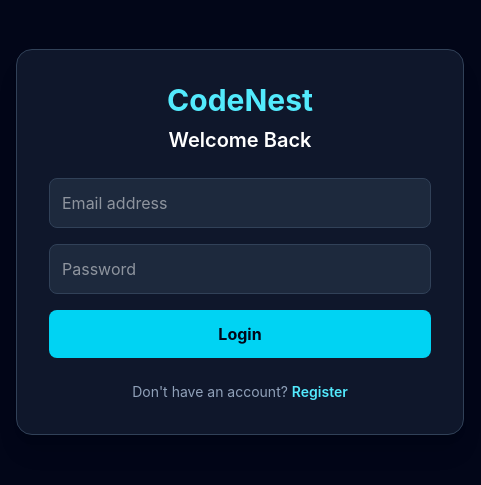
Auth component › switches to the registration screen
Step 1. Click the button "Register" → (320, 392), box 292,382 -> 348,402
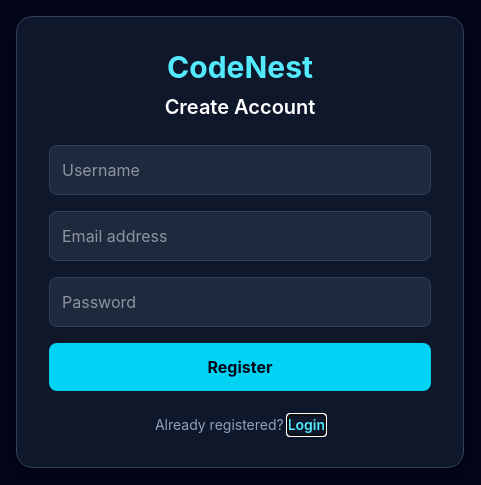
Check: the heading "Create Account" is shown, box 165,95 -> 315,119
Check: the field with placeholder "Username" is shown, box 49,145 -> 431,195
